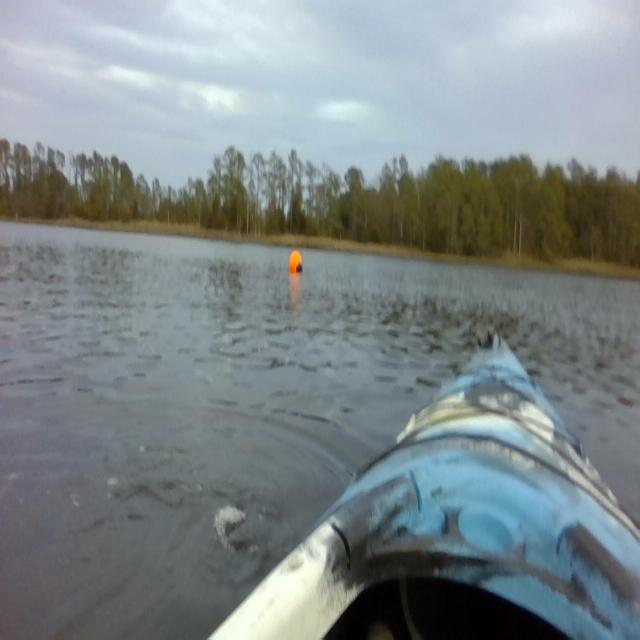Buoy: (288, 249, 304, 275)
